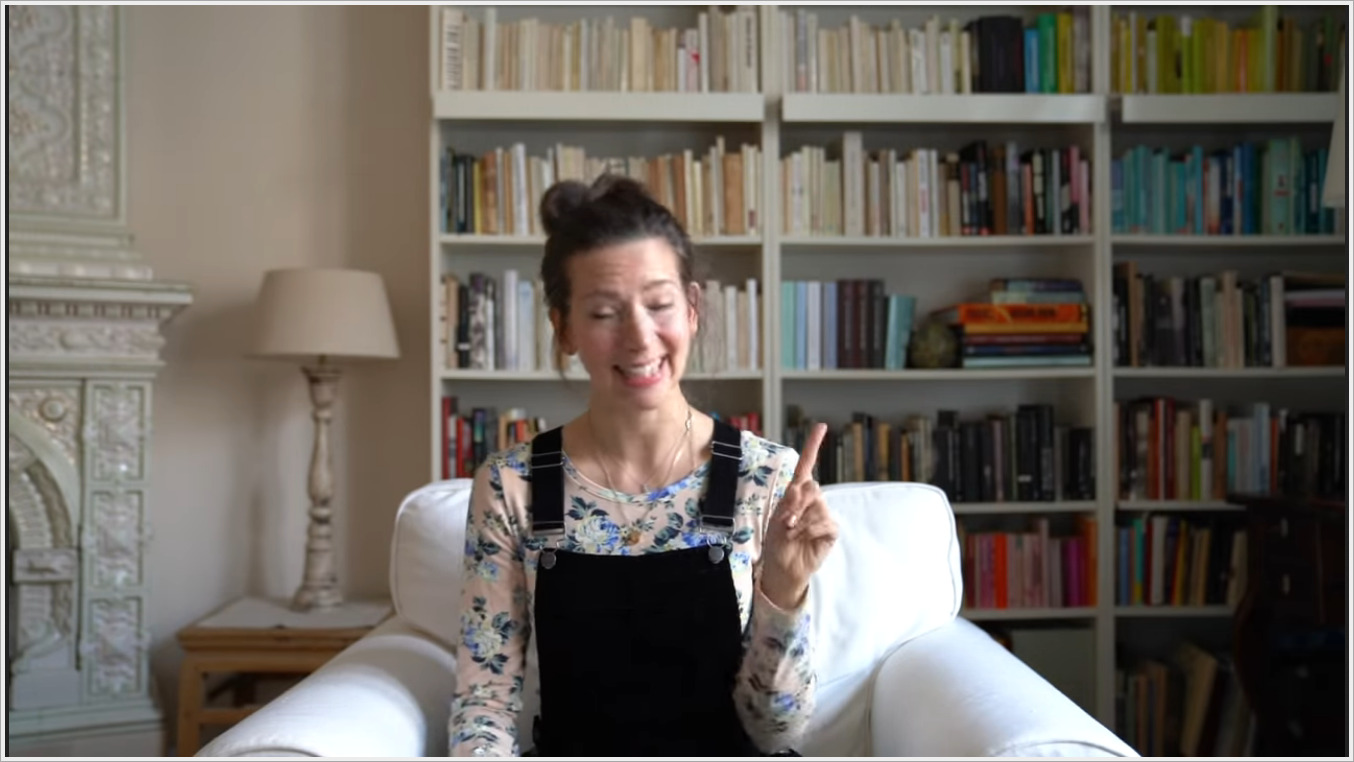hand: (755, 421, 847, 587)
